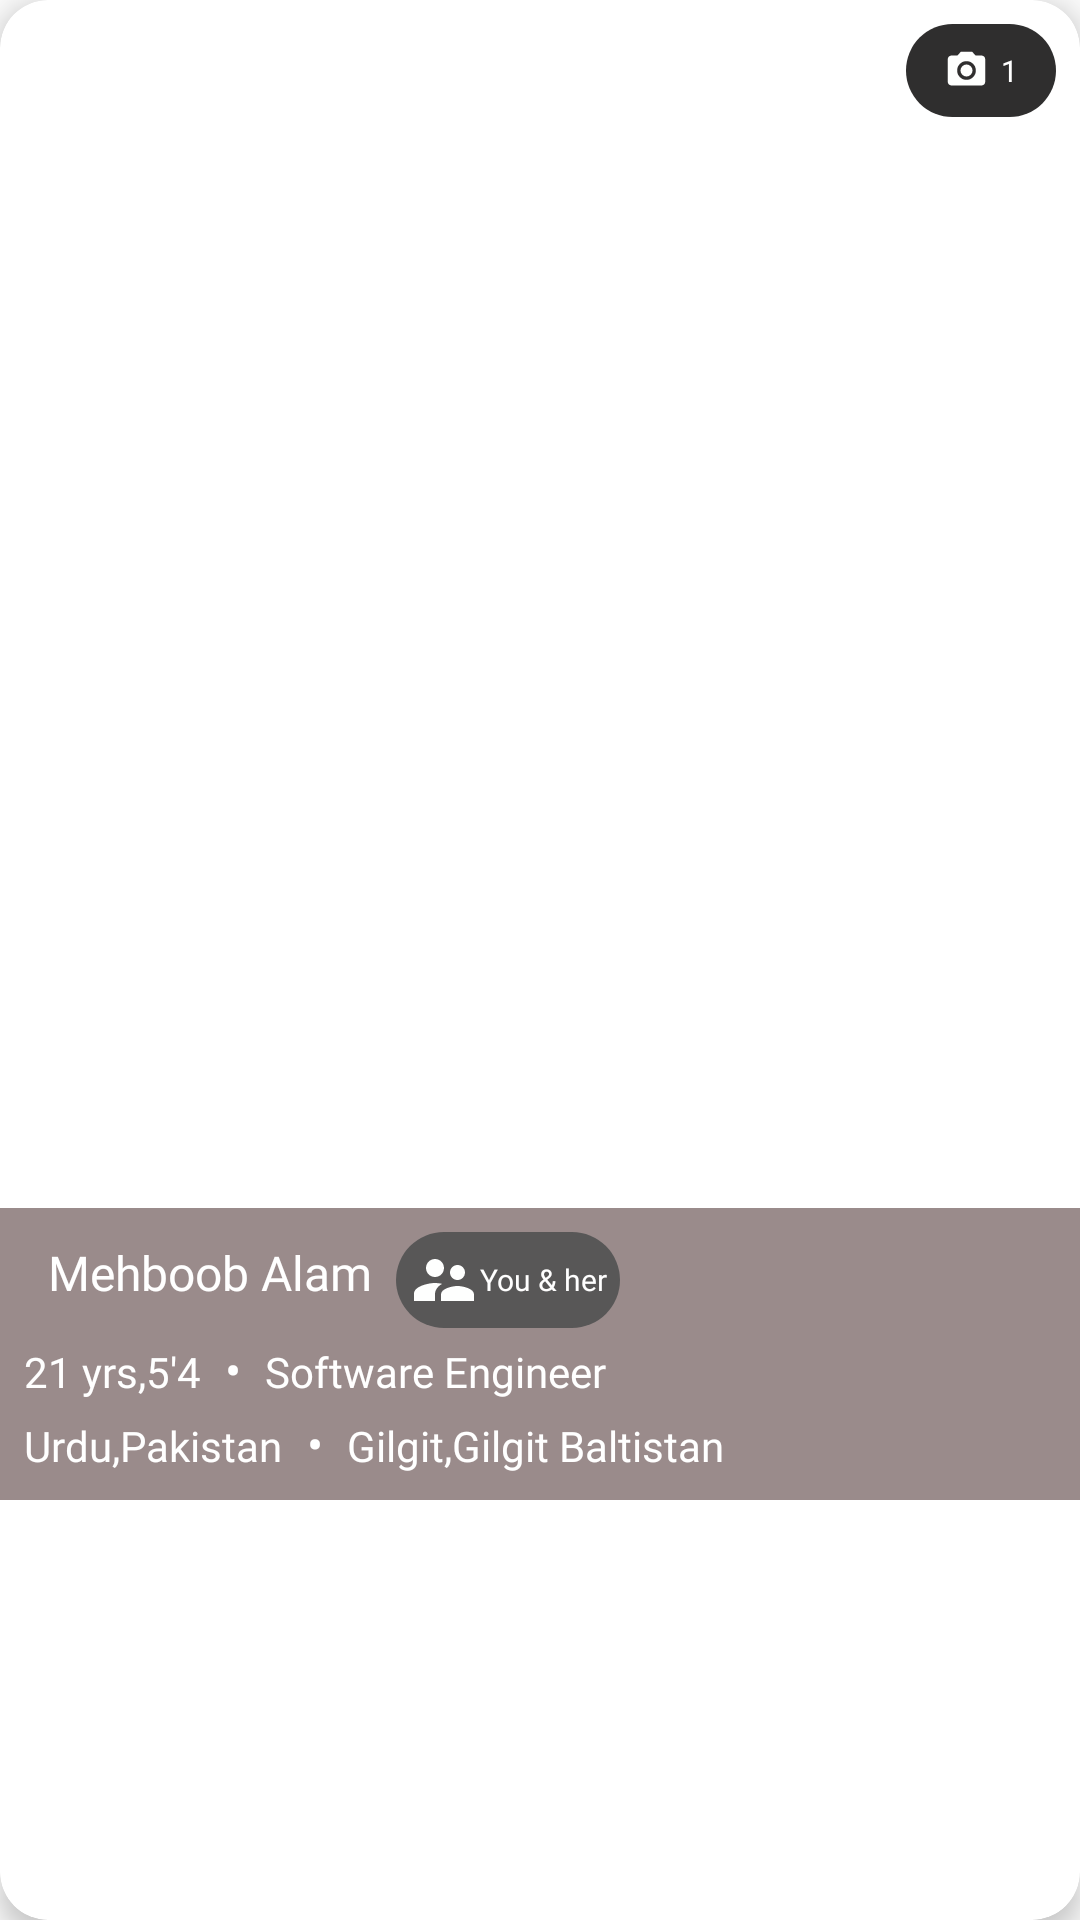

Where to tap for icons on this 1080w x 1920h app screen, as point (x, y):
photo camera: point (966, 68)
